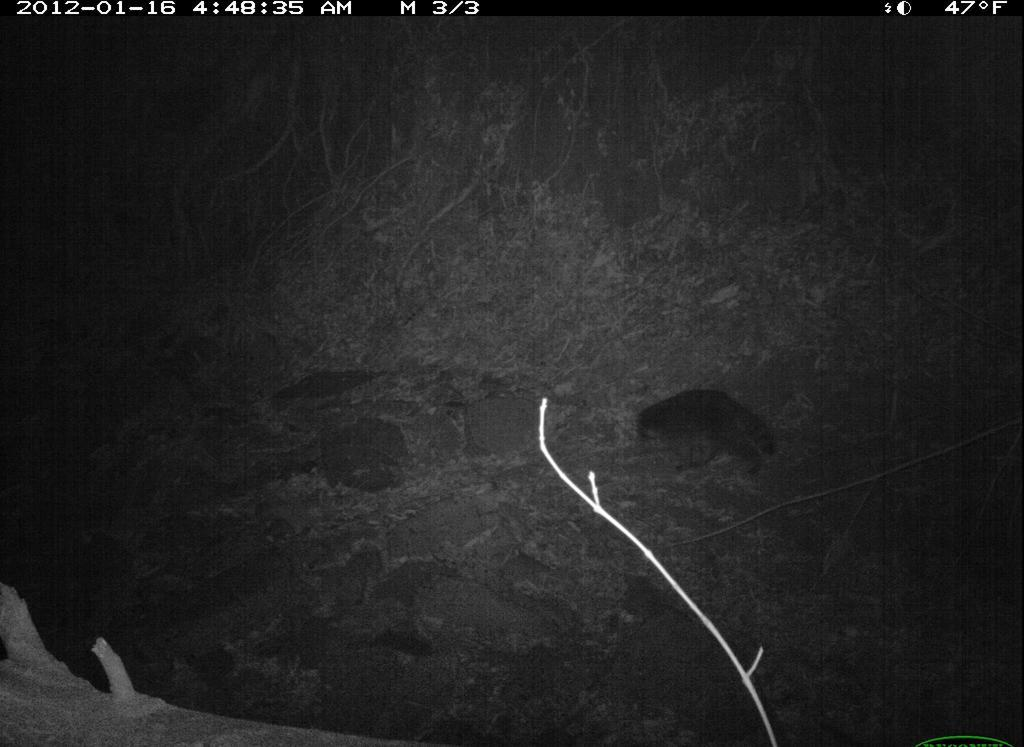raccoon: (633, 377, 793, 486)
